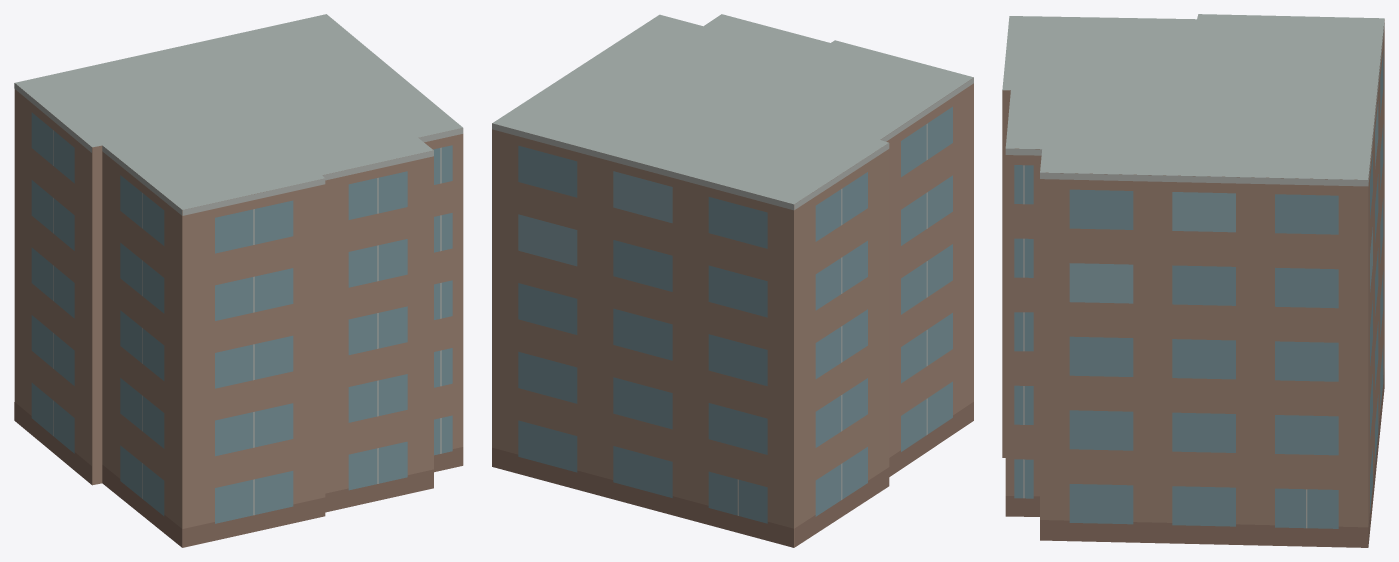
The model's file is survey-upis-32490126.glb.
The picture shows the model from 3 angles, left to right: view 1: azimuth 30°, elevation 25°; view 2: azimuth 150°, elevation 25°; view 3: azimuth 270°, elevation 25°; orthographic projection. The views are drawn at different scales.
Parts seen in each view (by area): view 1: survey-upis-32490126.tmp; view 2: survey-upis-32490126.tmp; view 3: survey-upis-32490126.tmp.
Part boxes in pixels (x1,y1,x2,y2): survey-upis-32490126.tmp: (14,14,463,547); survey-upis-32490126.tmp: (492,14,973,547); survey-upis-32490126.tmp: (1002,14,1384,547).
Bounding box in the file's own units: 13.46 × 13.9 × 13.1.
